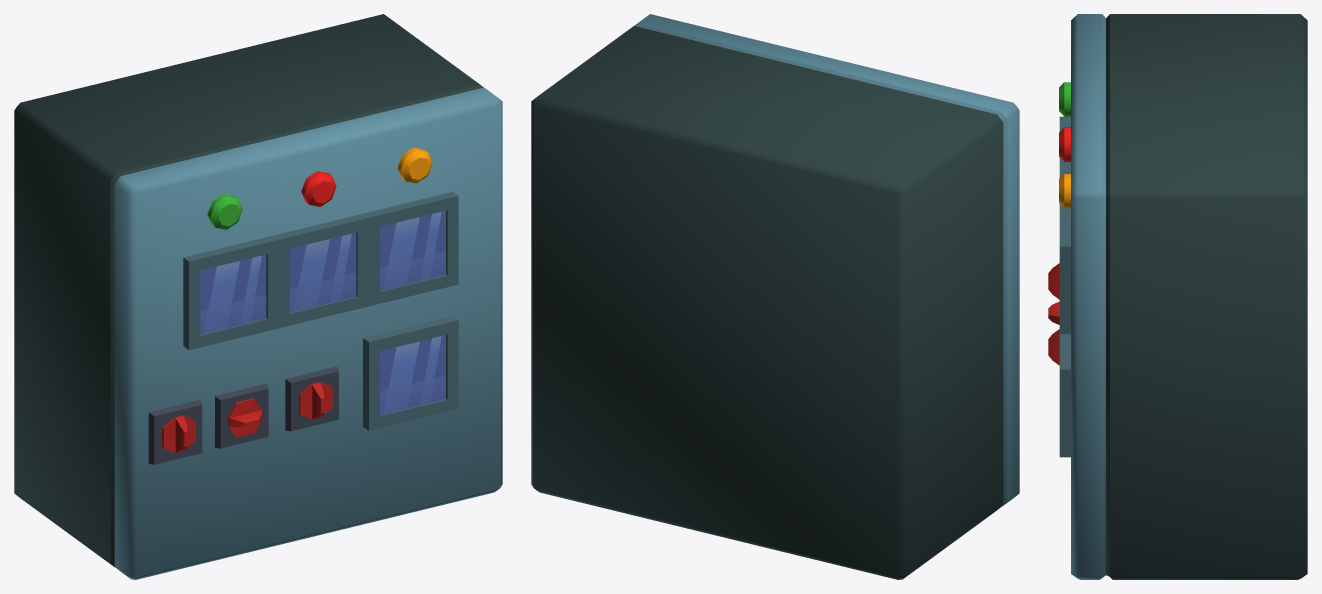
The model's file is ElectricBox_3_E_2.fbx.
The picture shows the model from 3 angles, left to right: view 1: azimuth 30°, elevation 25°; view 2: azimuth 150°, elevation 25°; view 3: azimuth 270°, elevation 25°; orthographic projection.
Parts seen in each view (by area): view 1: ElectricBox_3_E_2; view 2: ElectricBox_3_E_2; view 3: ElectricBox_3_E_2.
Boxes of the visible parts, box(x1,y1,x2,y2) form: ElectricBox_3_E_2: box(14, 14, 502, 579); ElectricBox_3_E_2: box(531, 14, 1019, 579); ElectricBox_3_E_2: box(1048, 14, 1307, 579).
Size of the model in its own units: 102 by 102 by 61.6.
